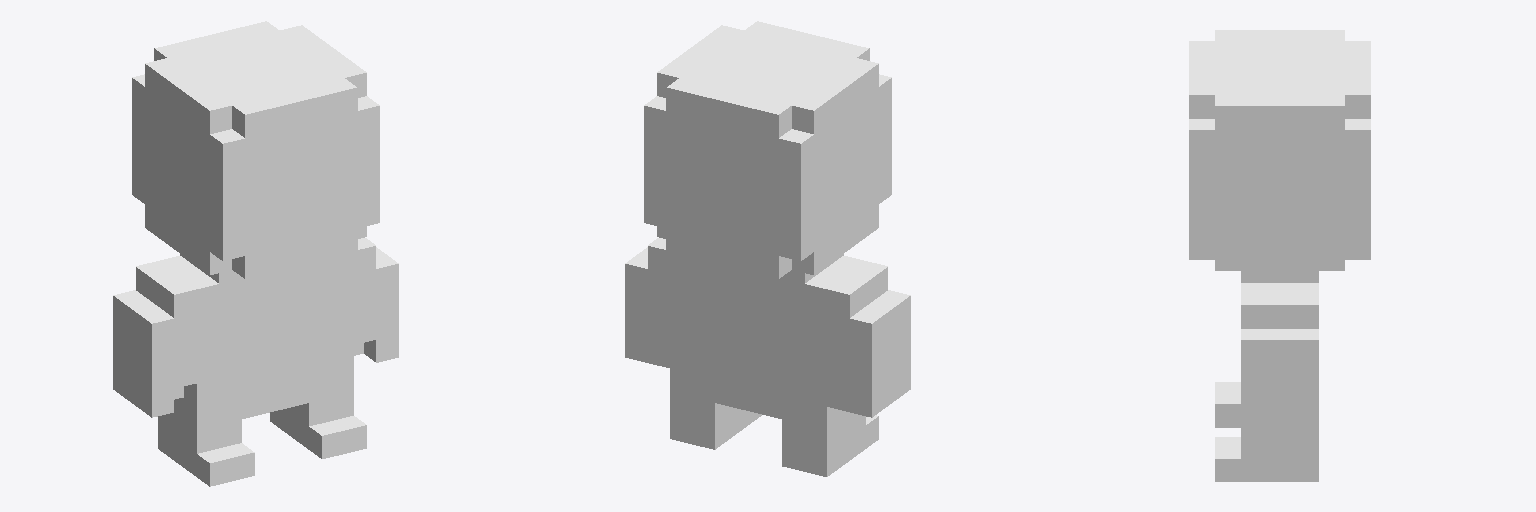
File: poc.obj
3 renders of one model, left to right at view 1: azimuth 30°, elevation 25°; view 2: azimuth 150°, elevation 25°; view 3: azimuth 270°, elevation 25°, orthographic.
Parts seen in each view (by area): view 1: object 1; view 2: object 1; view 3: object 1.
Part boxes in pixels (x1,y1,x2,y2): object 1: (113, 21, 398, 486); object 1: (625, 21, 910, 476); object 1: (1189, 30, 1370, 481).
Size of the model in its own units: 1.1 by 1.6 by 0.7.